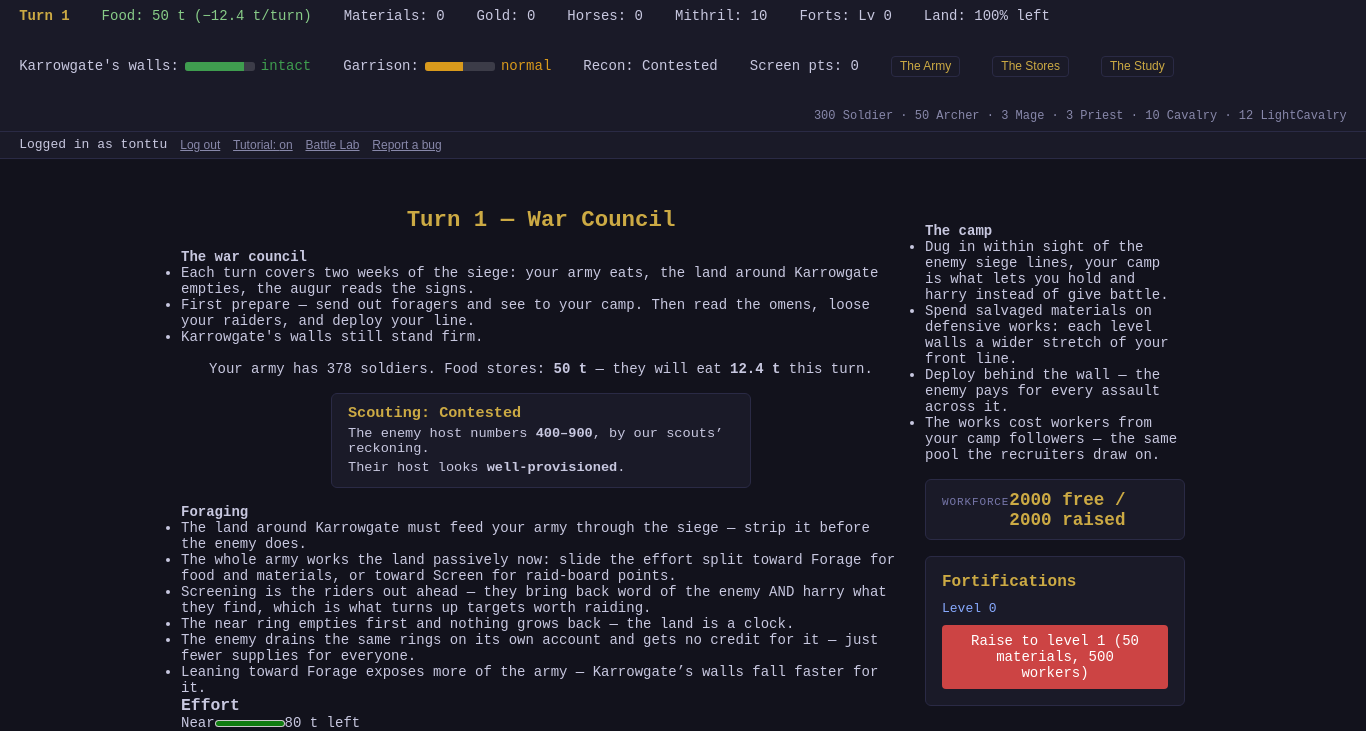
Test case: the paths a caster commands (docs/CAMPAIGN_PLAN.md "▶ SLICE 2", S2-13) › a caster who commands nothing says so rather than showing an empty line
Expected: the heading "Turn 1 — War Council" is shown, [407,207,675,233]
Click the button with test id "hud-army" at (926, 66), box [891,56,960,77]
(page scrolled)
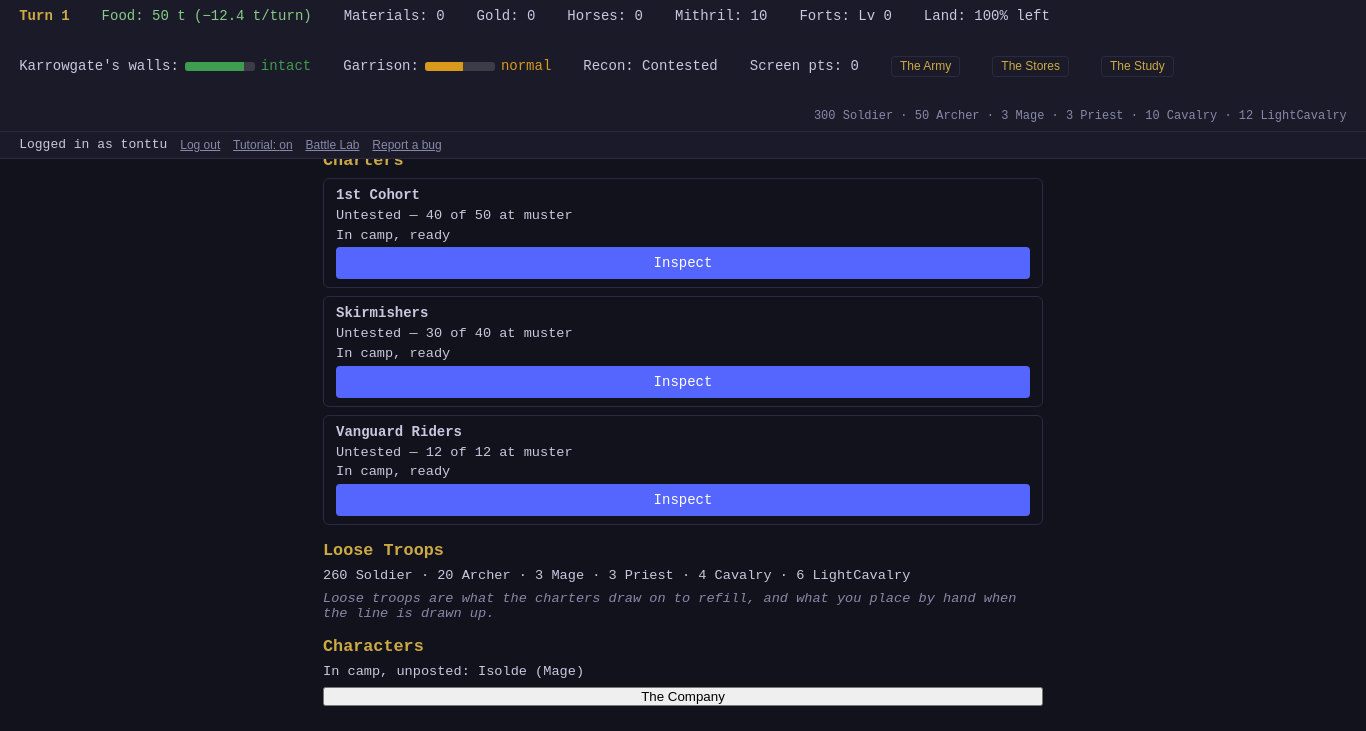
Expected: the element with test id "squad-roll" is shown, [323,159,1043,706]
Click the button with test id "roll-to-company" at (683, 697), box [323,687,1043,706]
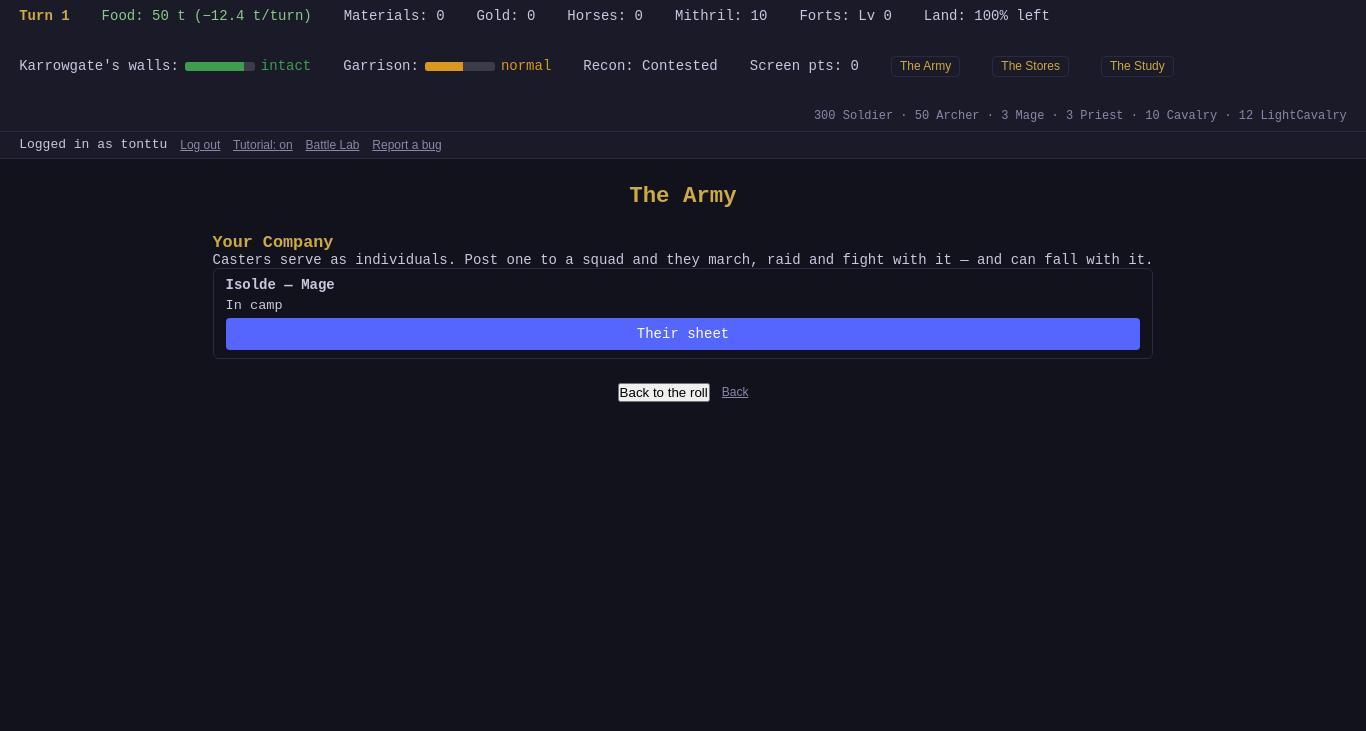
Click the button "Their sheet" at (683, 334), box [226,318,1140,350]
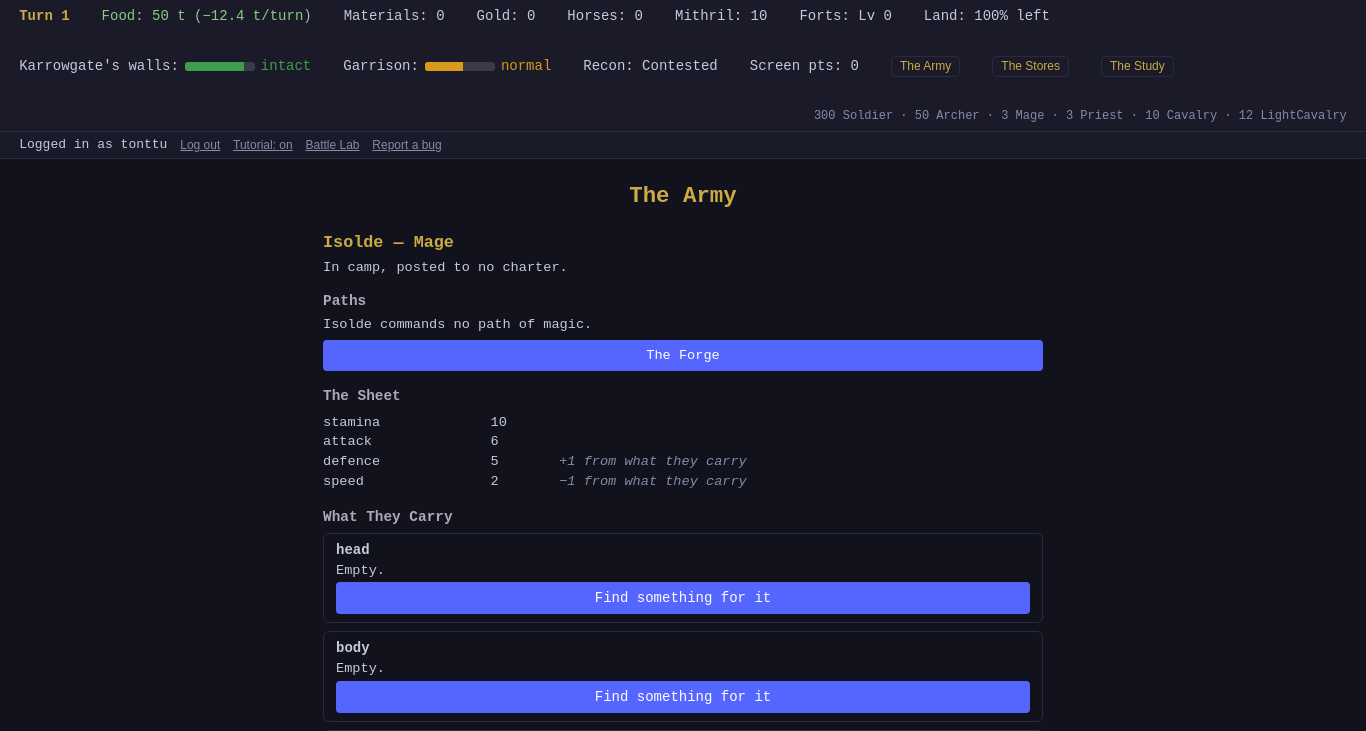
Expected: the text "Isolde commands no path of magic." is shown, [323,317,592,332]
